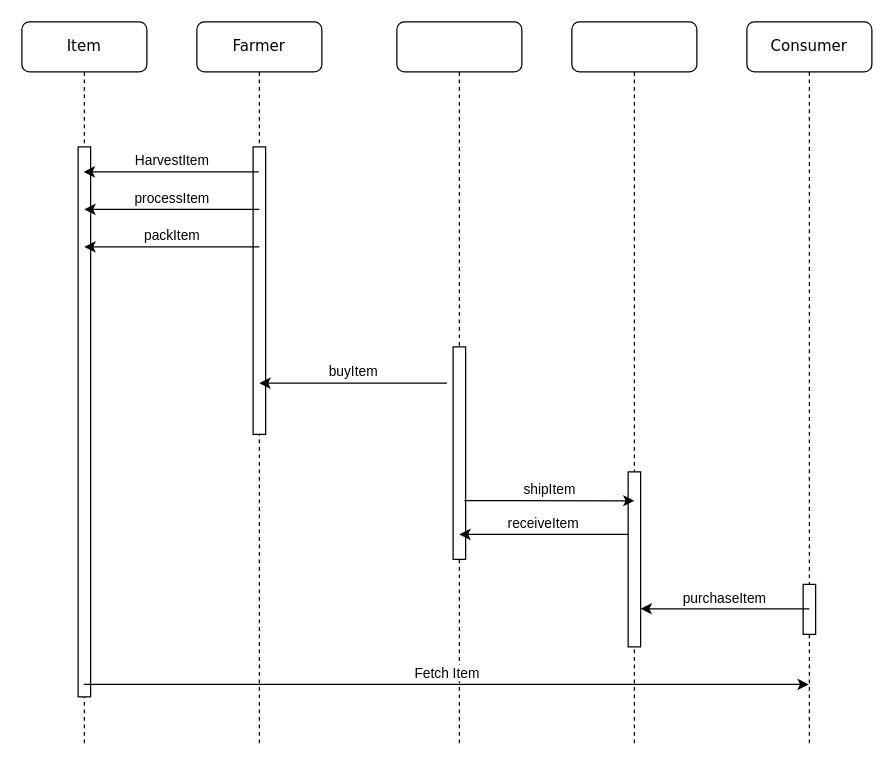
Image size: 894x769. Some labels were removed from this diagram. The shapes that lost their labels are listed below. From the top down, each one's box as (x1, y1, x2, y2) in pixels, then its label:
(396, 21, 522, 747): Distributor
(571, 21, 697, 747): Retailer
